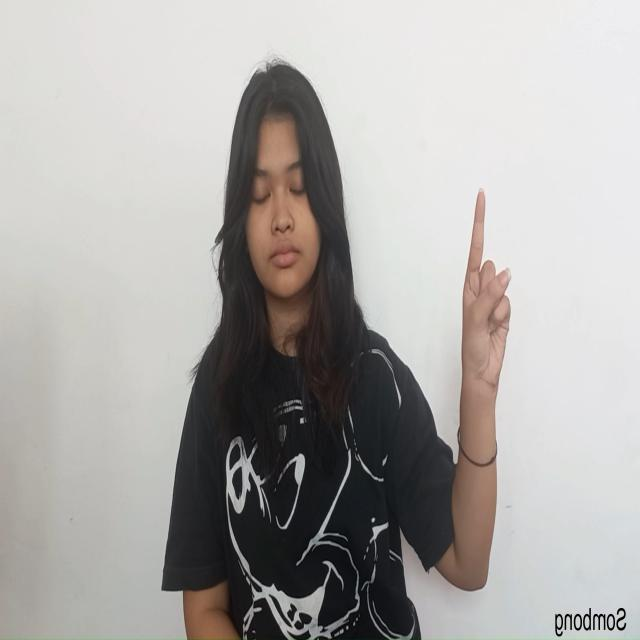Sombong -BISINDO-: (459, 185, 513, 399)
